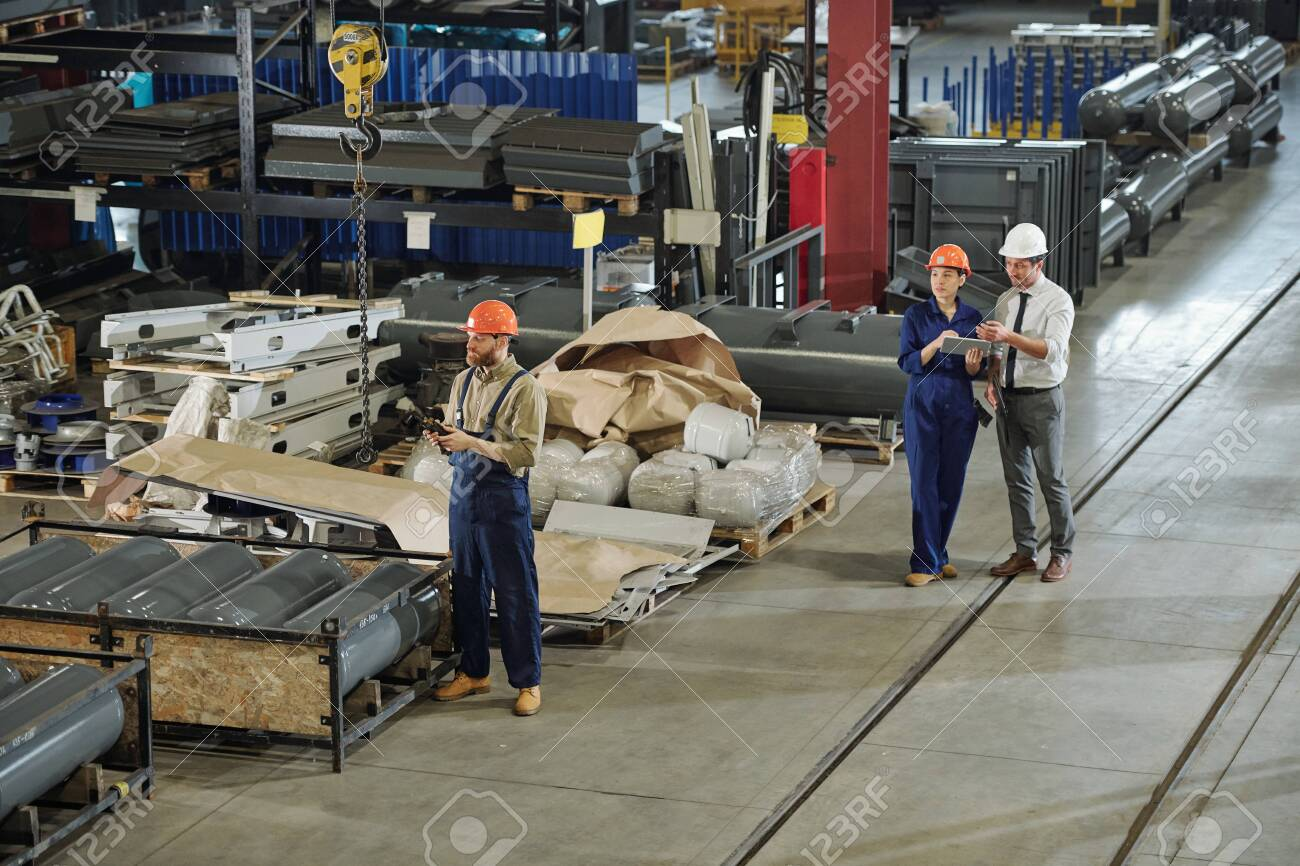person: (414, 294, 550, 715), (973, 223, 1078, 583), (895, 241, 991, 585)
